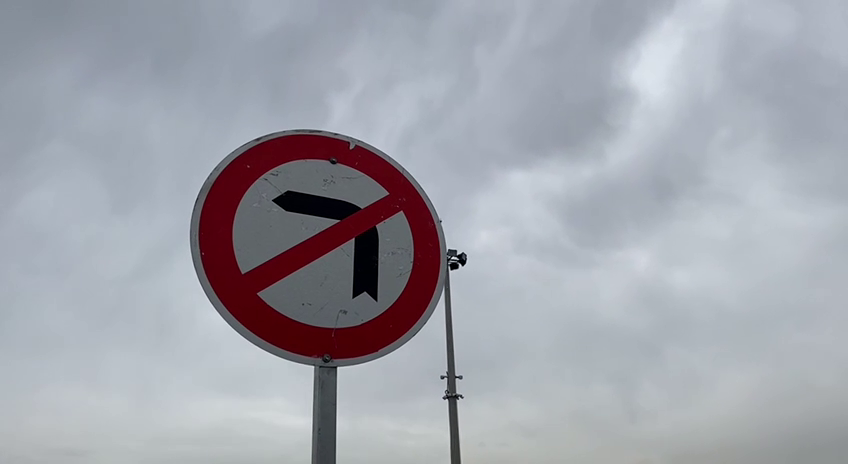noTurnLeft: (184, 124, 452, 370)
